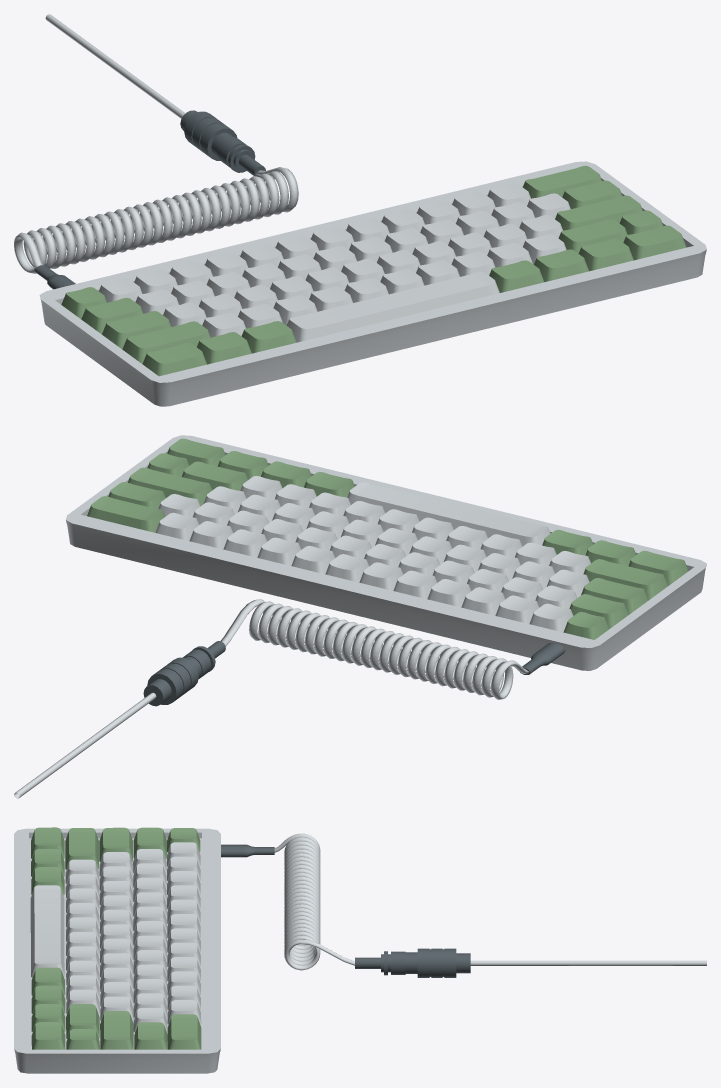
Rendered from keyboardver9.glb.
3 renders of one model, top to bottom at view 1: azimuth 30°, elevation 25°; view 2: azimuth 150°, elevation 25°; view 3: azimuth 270°, elevation 25°, orthographic. The views are drawn at different scales.
Parts seen in each view (by area): view 1: sm_keyboard; view 2: sm_keyboard; view 3: sm_keyboard.
Boxes of the visible parts, bbox=[...] form: sm_keyboard: bbox=[14, 14, 706, 406]; sm_keyboard: bbox=[14, 435, 706, 798]; sm_keyboard: bbox=[14, 827, 706, 1073].
Size of the model in its own units: 0.3754 by 0.0277 by 0.4888.
Materials: 1 (1 with a texture image).
